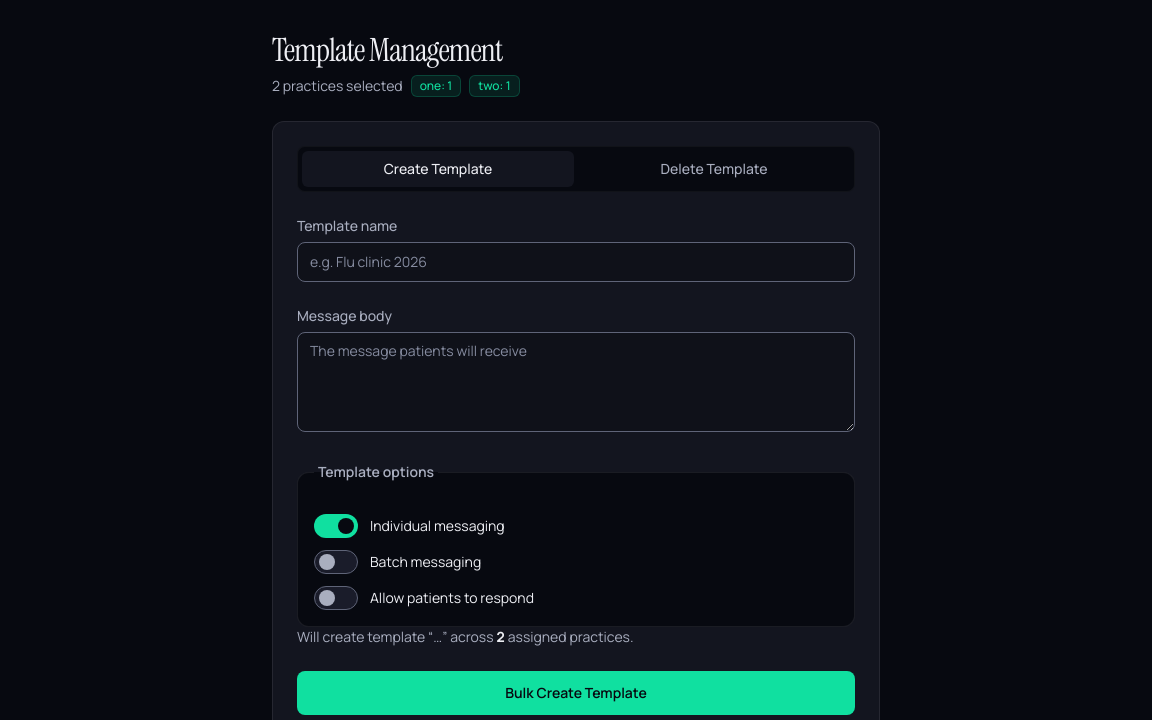
Test: TemplatesPage run start › (c) shows a rejected startRun reason and still navigates when another succeeds
Expected: the text "one: 1" is shown, left=411, top=75, right=461, bottom=97
Type "Flu 2026" into the field labelled "Template name". click: (576, 262)
box: left=297, top=242, right=855, bottom=282
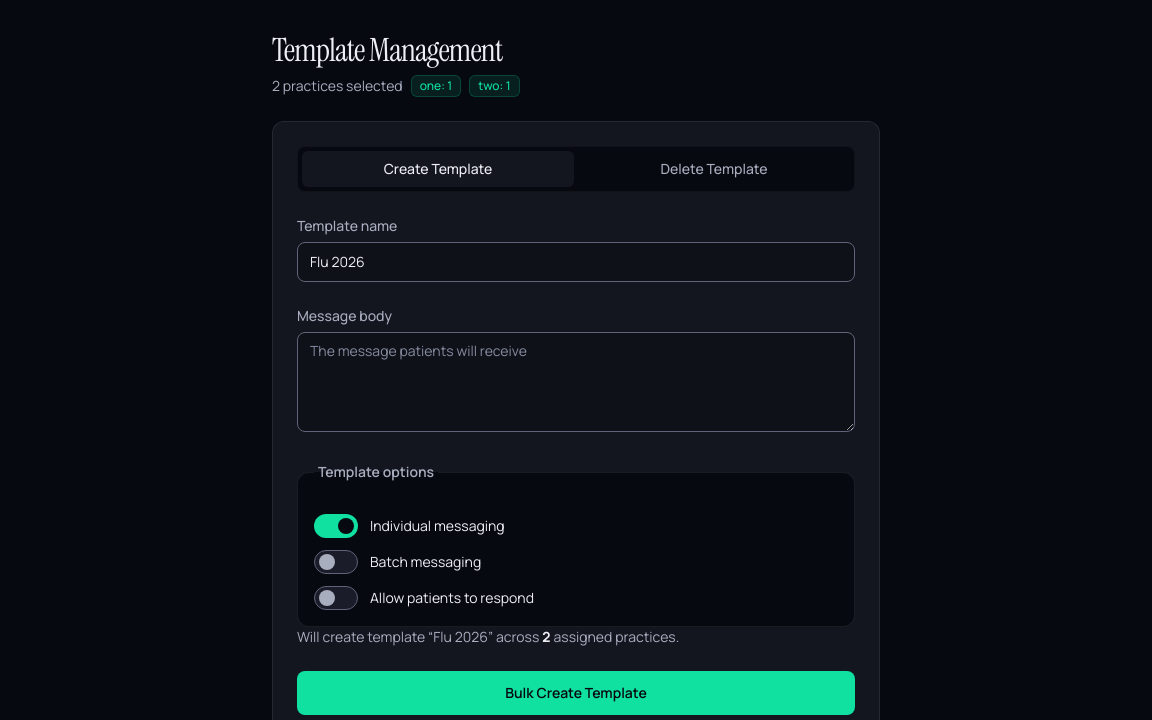
Type "Hello" into the text box labelled "Message body". click: (576, 382)
box: left=297, top=332, right=855, bottom=432
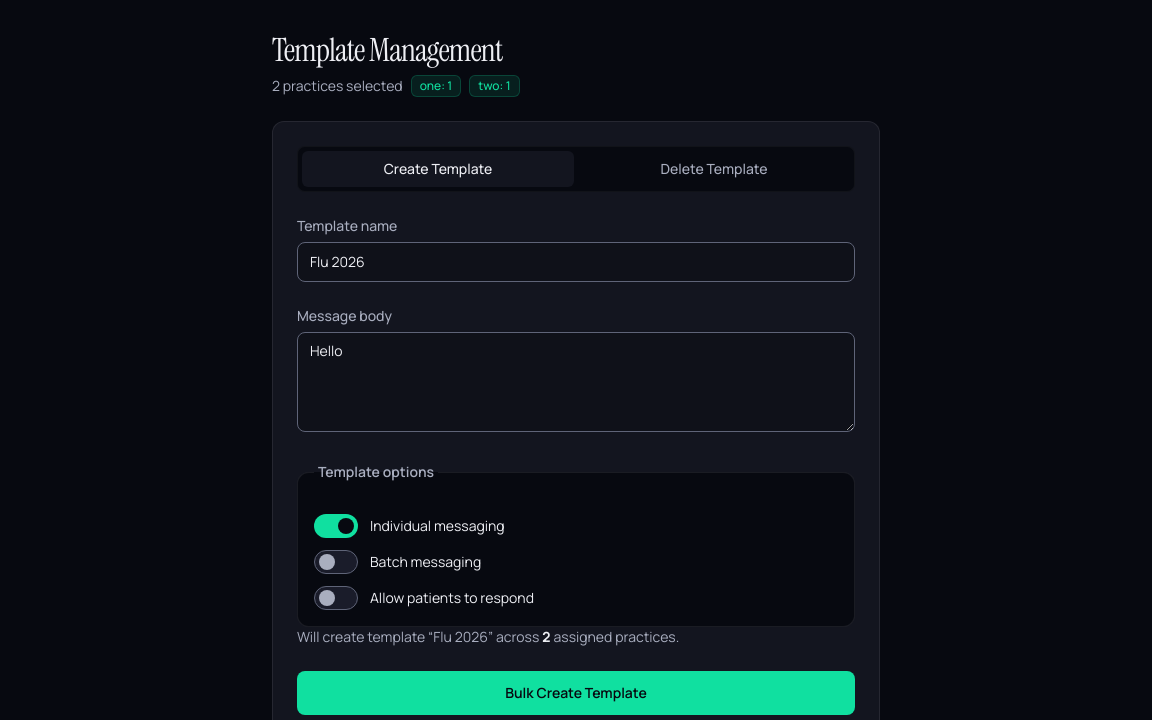
Click the button "Bulk Create Template". click: (576, 693)
box: left=297, top=671, right=855, bottom=715
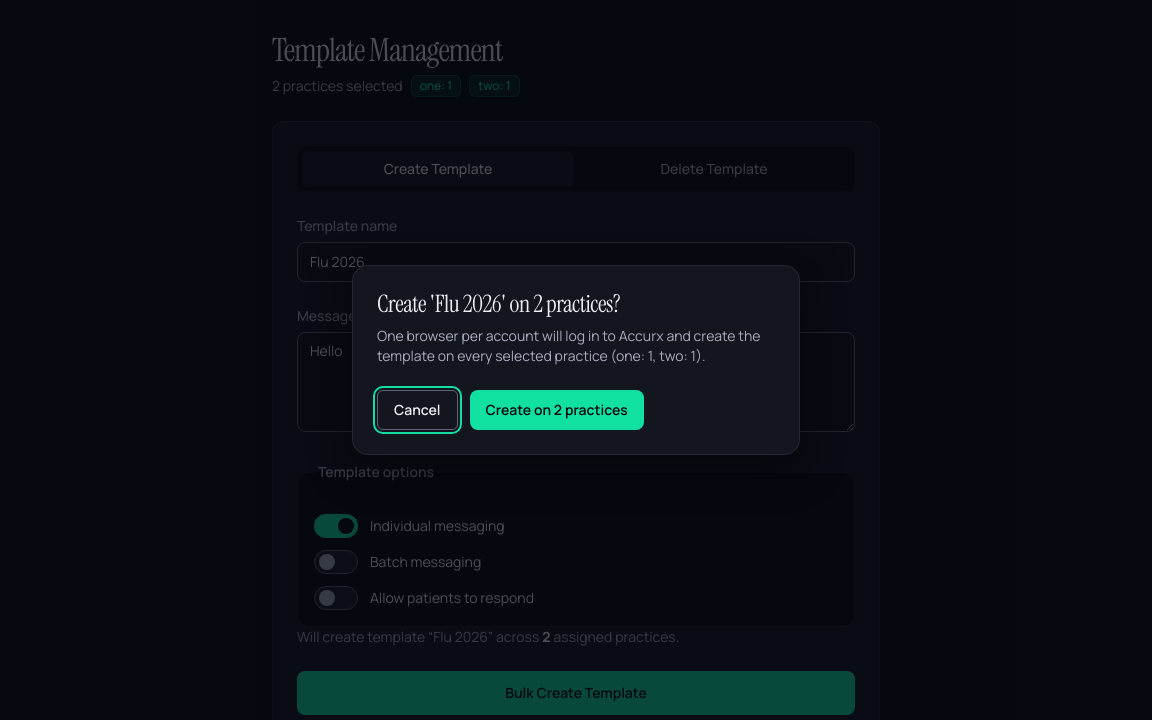
Click the button "Create on 2 practices". click: (557, 410)
box: left=470, top=390, right=644, bottom=430
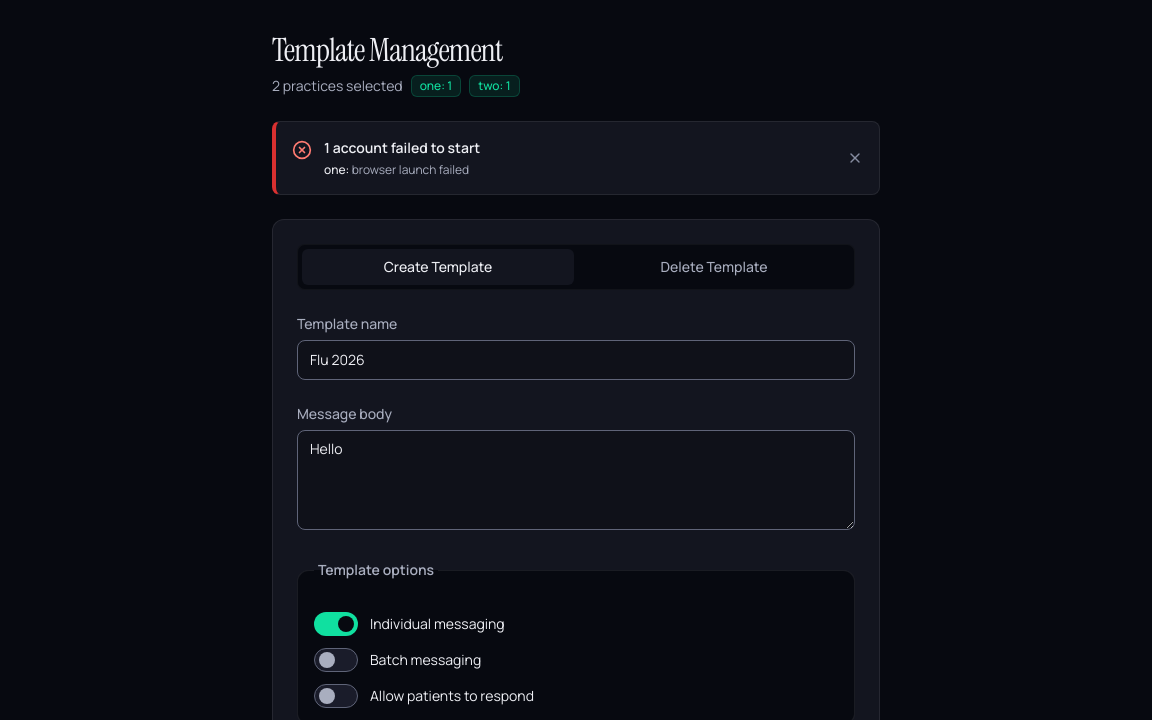
Now the list item "one: browser launch failed" is shown, box left=324, top=161, right=469, bottom=178
